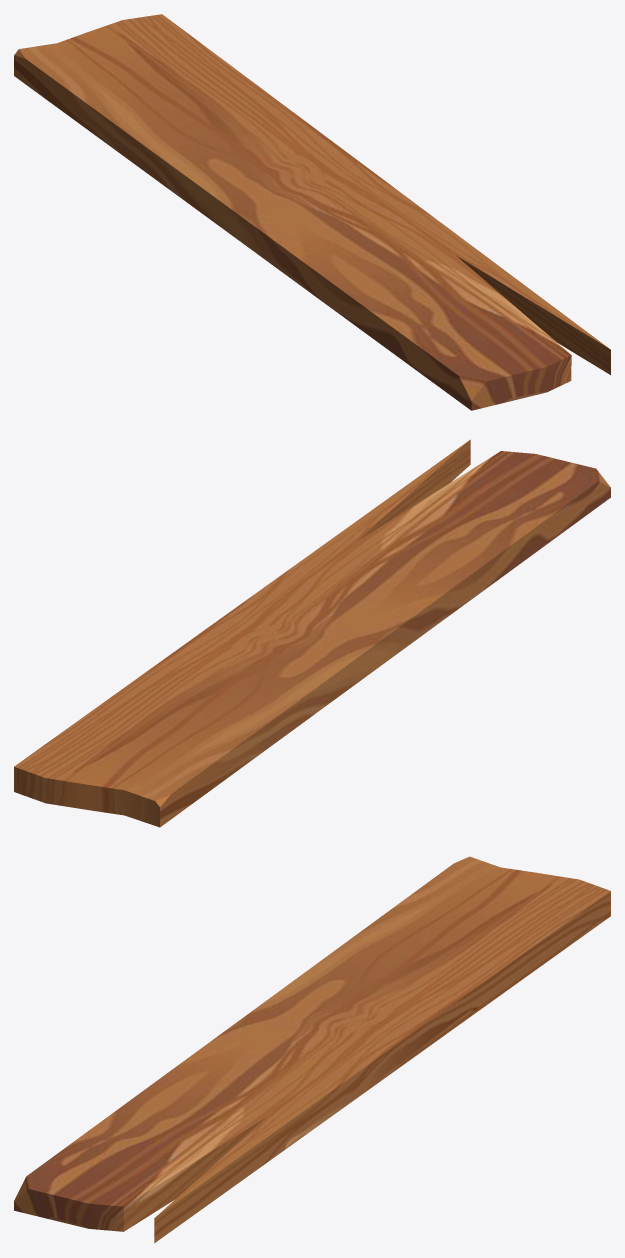
Rendered from board1.fbx.
The picture shows the model from 3 angles, top to bottom: view 1: azimuth 30°, elevation 25°; view 2: azimuth 150°, elevation 25°; view 3: azimuth 330°, elevation 25°; orthographic projection.
Parts seen in each view (by area): view 1: 木頭2; view 2: 木頭2; view 3: 木頭2.
Part boxes in pixels (left/top/right/bottom): 木頭2: left=14, top=14, right=610, bottom=410; 木頭2: left=14, top=439, right=610, bottom=827; 木頭2: left=14, top=856, right=610, bottom=1242.
Size of the model in its own units: 13.91 by 2.3 by 75.02.
Materials: 1 (1 with a texture image).
